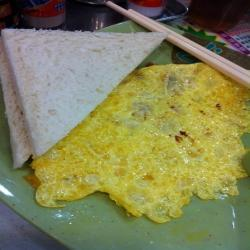bread: (1, 25, 165, 167)
omelette: (44, 63, 250, 220)
